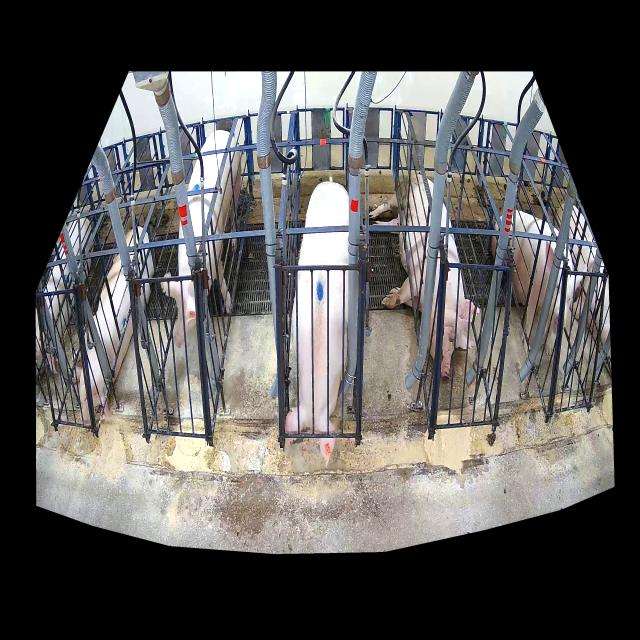pig: (370, 174, 475, 376), (285, 181, 348, 467), (160, 130, 241, 348), (72, 226, 154, 423), (492, 210, 587, 355)
